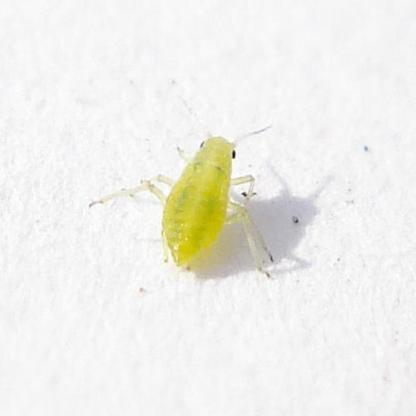aphid: (112, 95, 285, 276)
